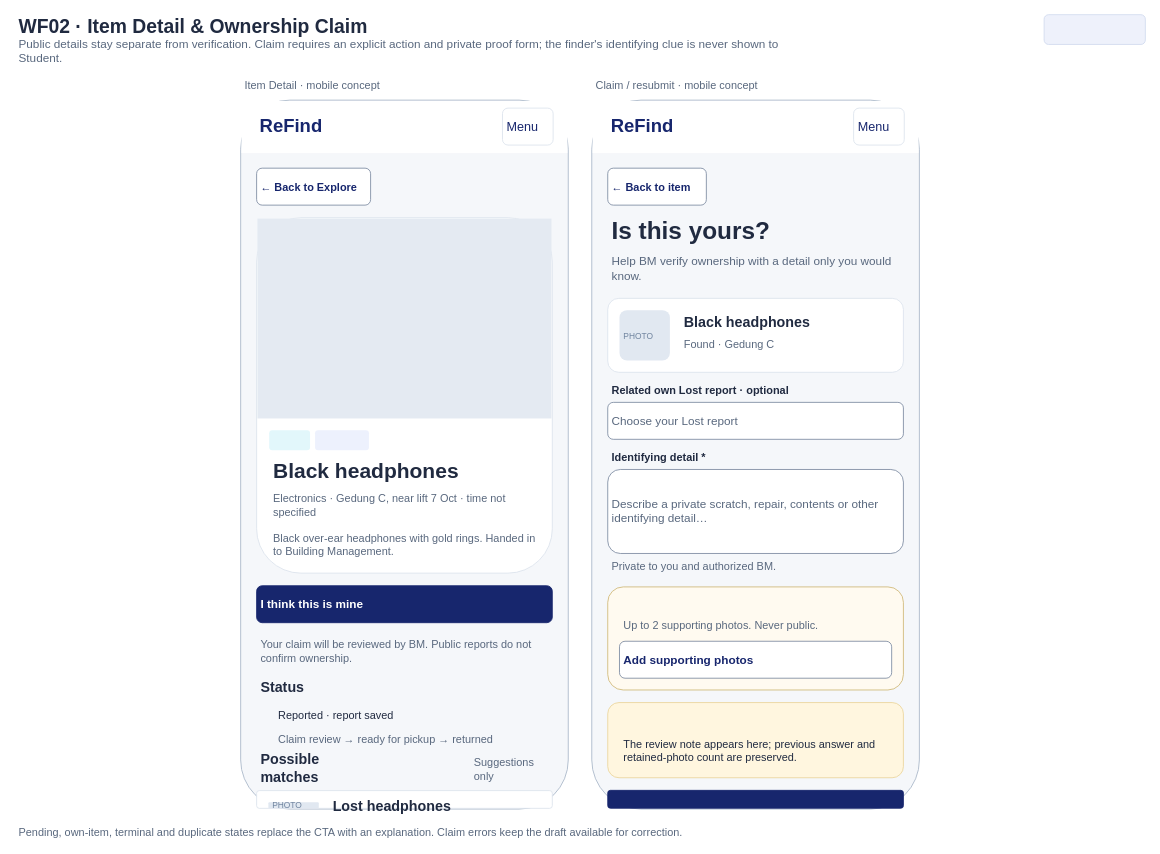
The diagram is 1160 pixels wide and 854 high, and some of its shapes have lost their labels. The shapes that lost their labels are listed below. From the top down, each one's centre as x and y in pixels, then its label:
point (1094, 29): CONCEPT / UX01
point (404, 318): Public gallery · 1 / 3
point (289, 440): Found
point (342, 440): Reported
point (755, 799): Submit claim for review
